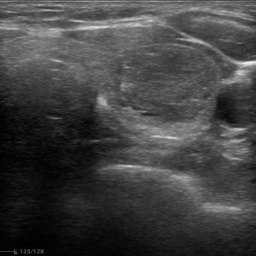mass: (99, 48, 221, 133)
